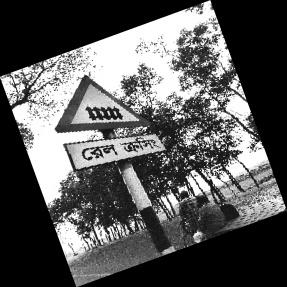Rail-crossing: (55, 75, 163, 173)
